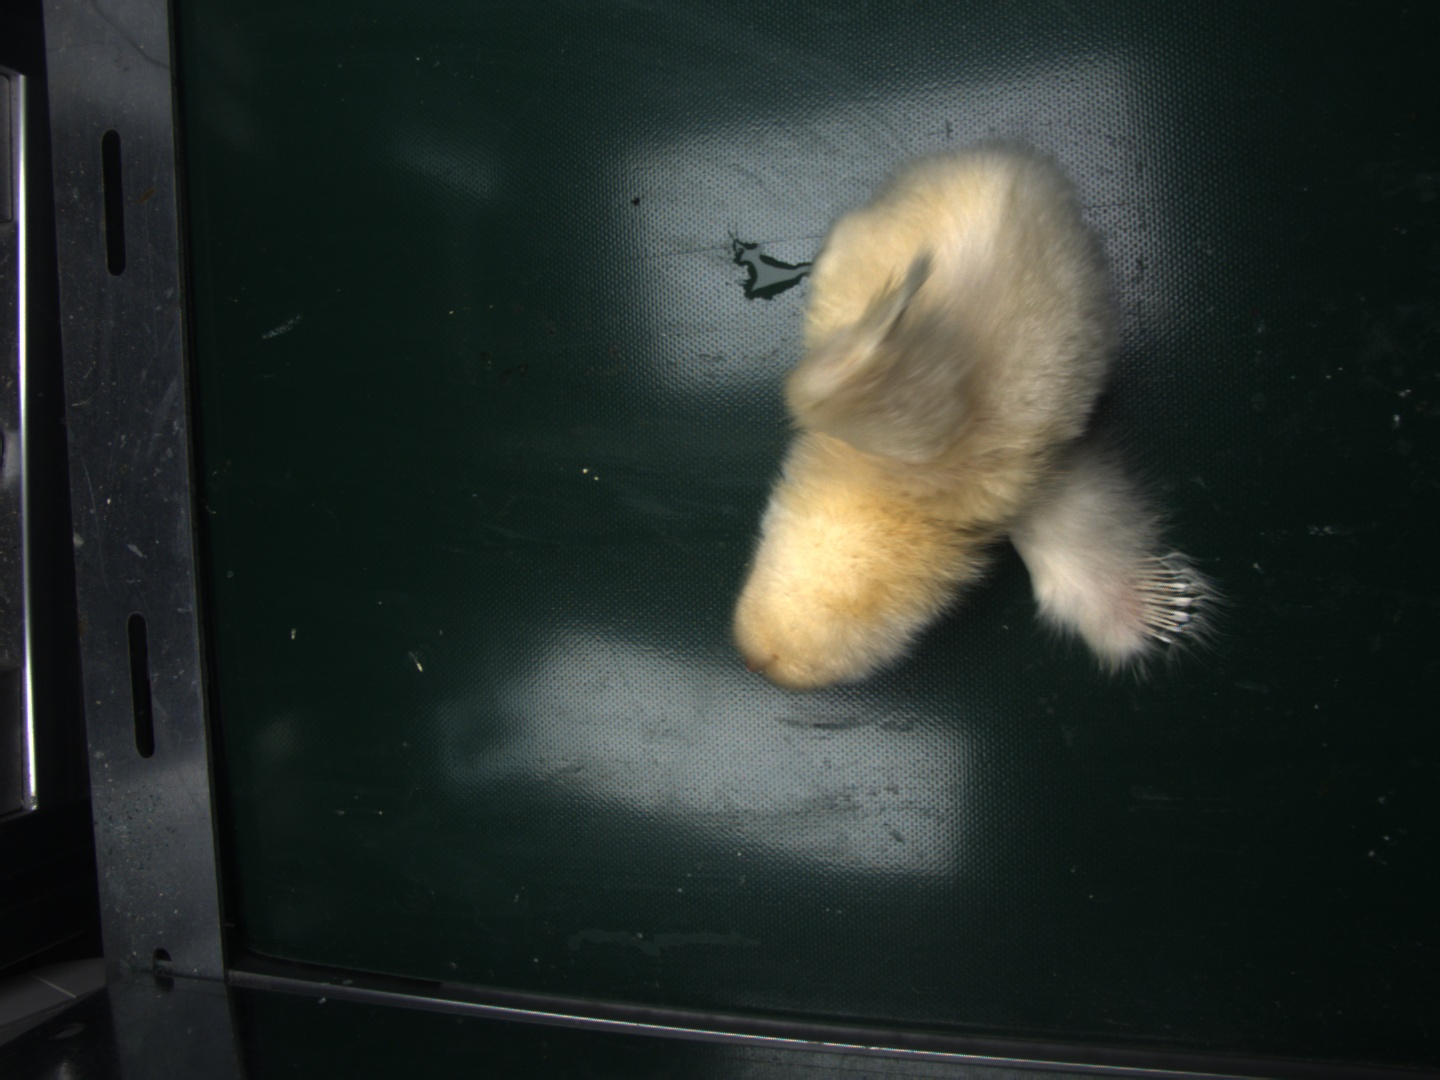male: (1133, 554, 1197, 641)
